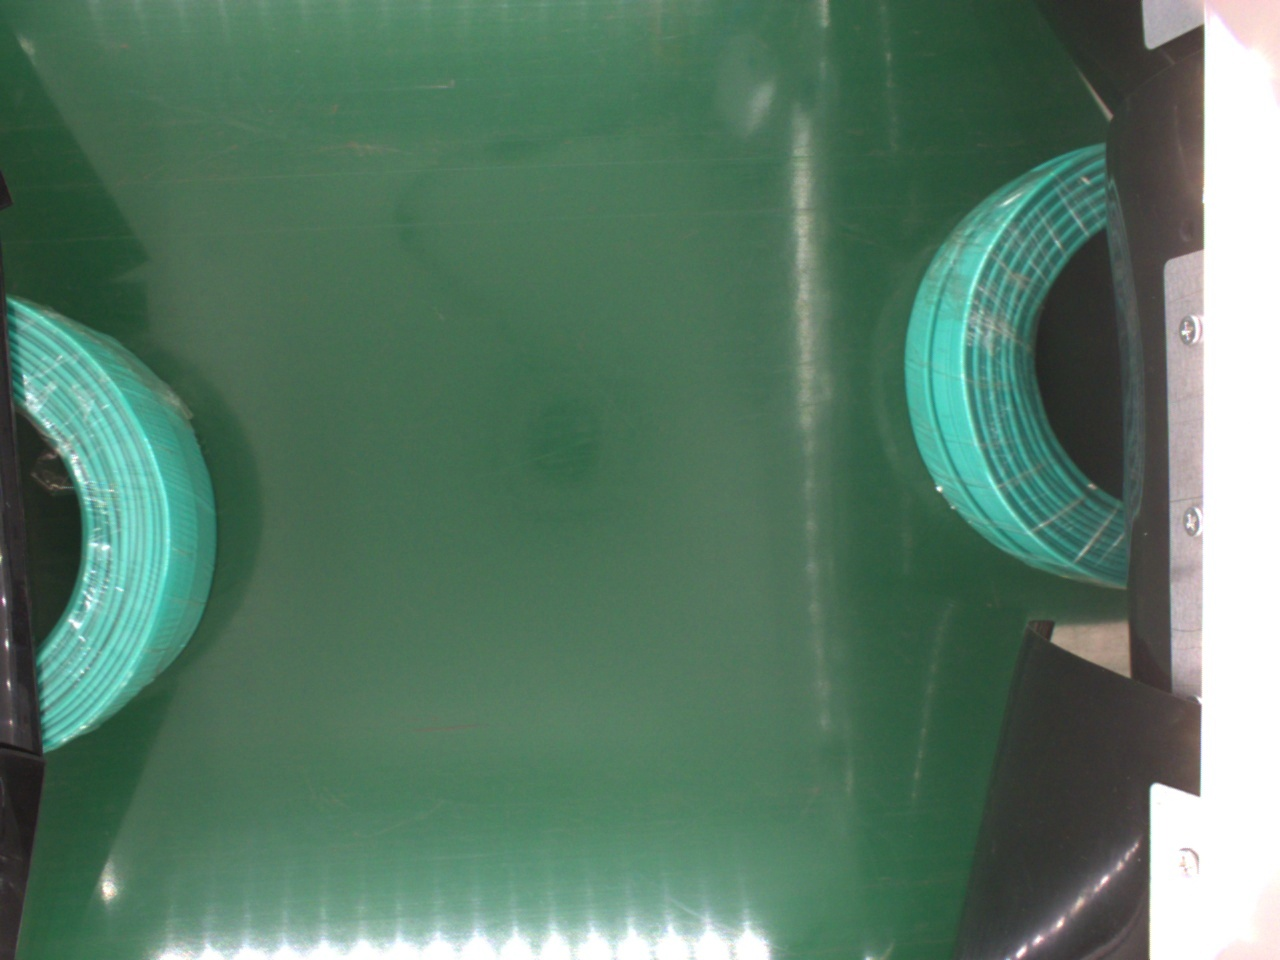green: (900, 139, 1132, 591), (5, 299, 220, 751)
